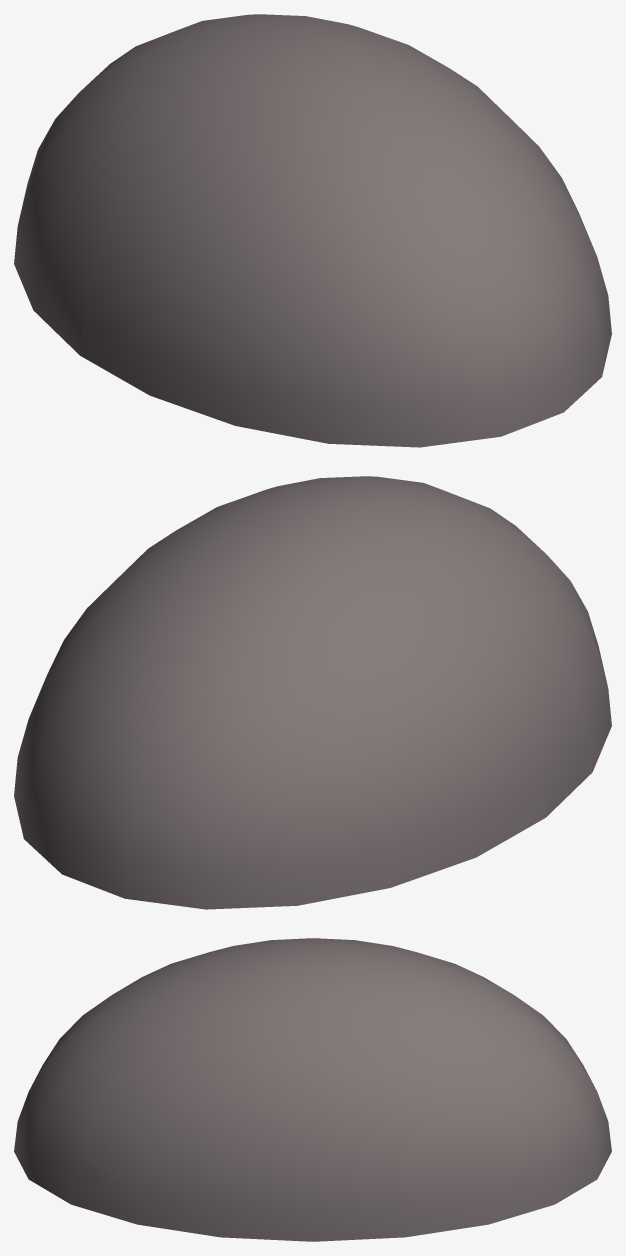
File: L_reg.obj
3 views of the same model, one above another, from view 1: azimuth 30°, elevation 25°; view 2: azimuth 150°, elevation 25°; view 3: azimuth 270°, elevation 25° (orthographic). The views are drawn at different scales.
Bounding box in the file's own units: 1 × 0.5 × 1.4.
1 material, 1 textured.
